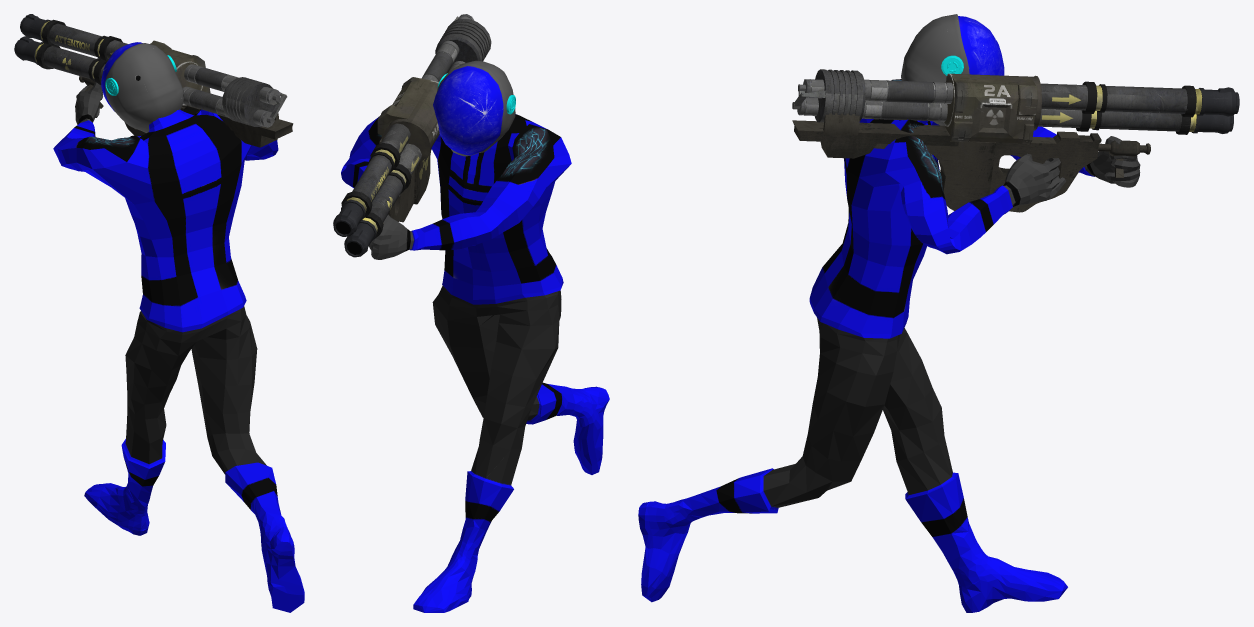
The picture shows the model from 3 angles, left to right: view 1: azimuth 30°, elevation 25°; view 2: azimuth 150°, elevation 25°; view 3: azimuth 270°, elevation 25°; orthographic projection. The views are drawn at different scales.
Visible parts, largest first — view 1: Brazos2, Piernas1, group1_polySurface5, Cabeza1; view 2: Piernas1, Brazos2, group1_polySurface5, Cabeza1; view 3: Piernas1, group1_polySurface5, Brazos2, Cabeza1.
Boxes of the visible parts, <box> form: Brazos2: <box>53,82,278,332</box>; Piernas1: <box>84,306,304,612</box>; group1_polySurface5: <box>14,14,293,147</box>; Cabeza1: <box>101,42,183,132</box>; Piernas1: <box>413,285,609,612</box>; Brazos2: <box>341,114,571,304</box>; group1_polySurface5: <box>333,14,491,257</box>; Cabeza1: <box>433,60,515,156</box>; Piernas1: <box>638,318,1067,612</box>; group1_polySurface5: <box>792,69,1239,212</box>; Brazos2: <box>809,79,1140,338</box>; Cabeza1: <box>901,14,1004,125</box>.
Bounding box in the file's own units: 67.62 × 164 × 152.
